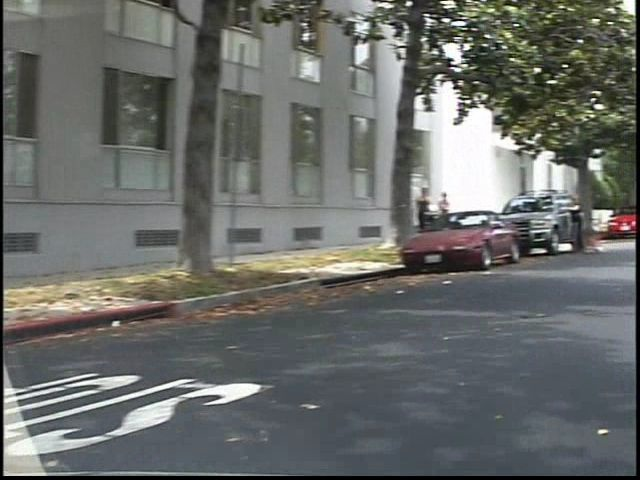person: (578, 191, 606, 258), (426, 181, 451, 247), (448, 186, 470, 241)
